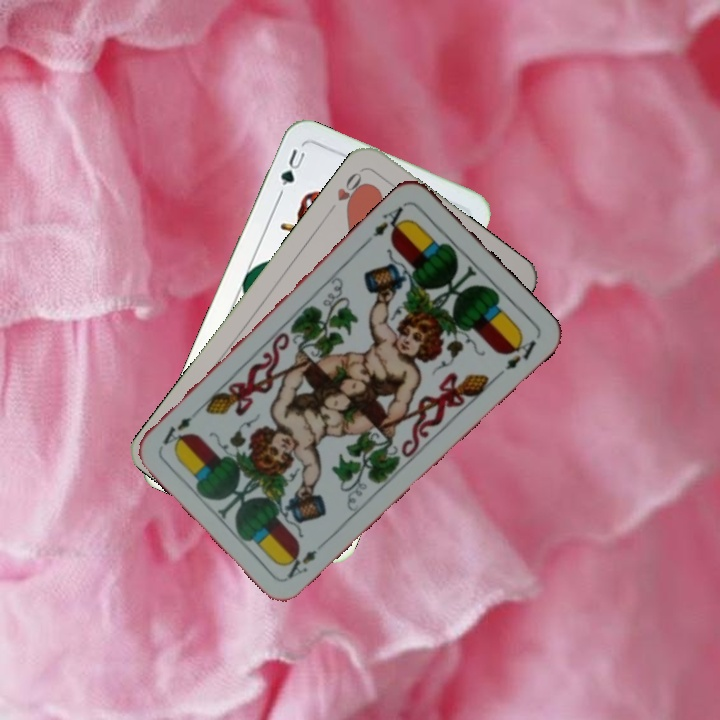EA: (368, 203, 411, 240), (280, 545, 320, 581)
GU: (276, 145, 308, 189)
HO: (332, 168, 370, 213)
